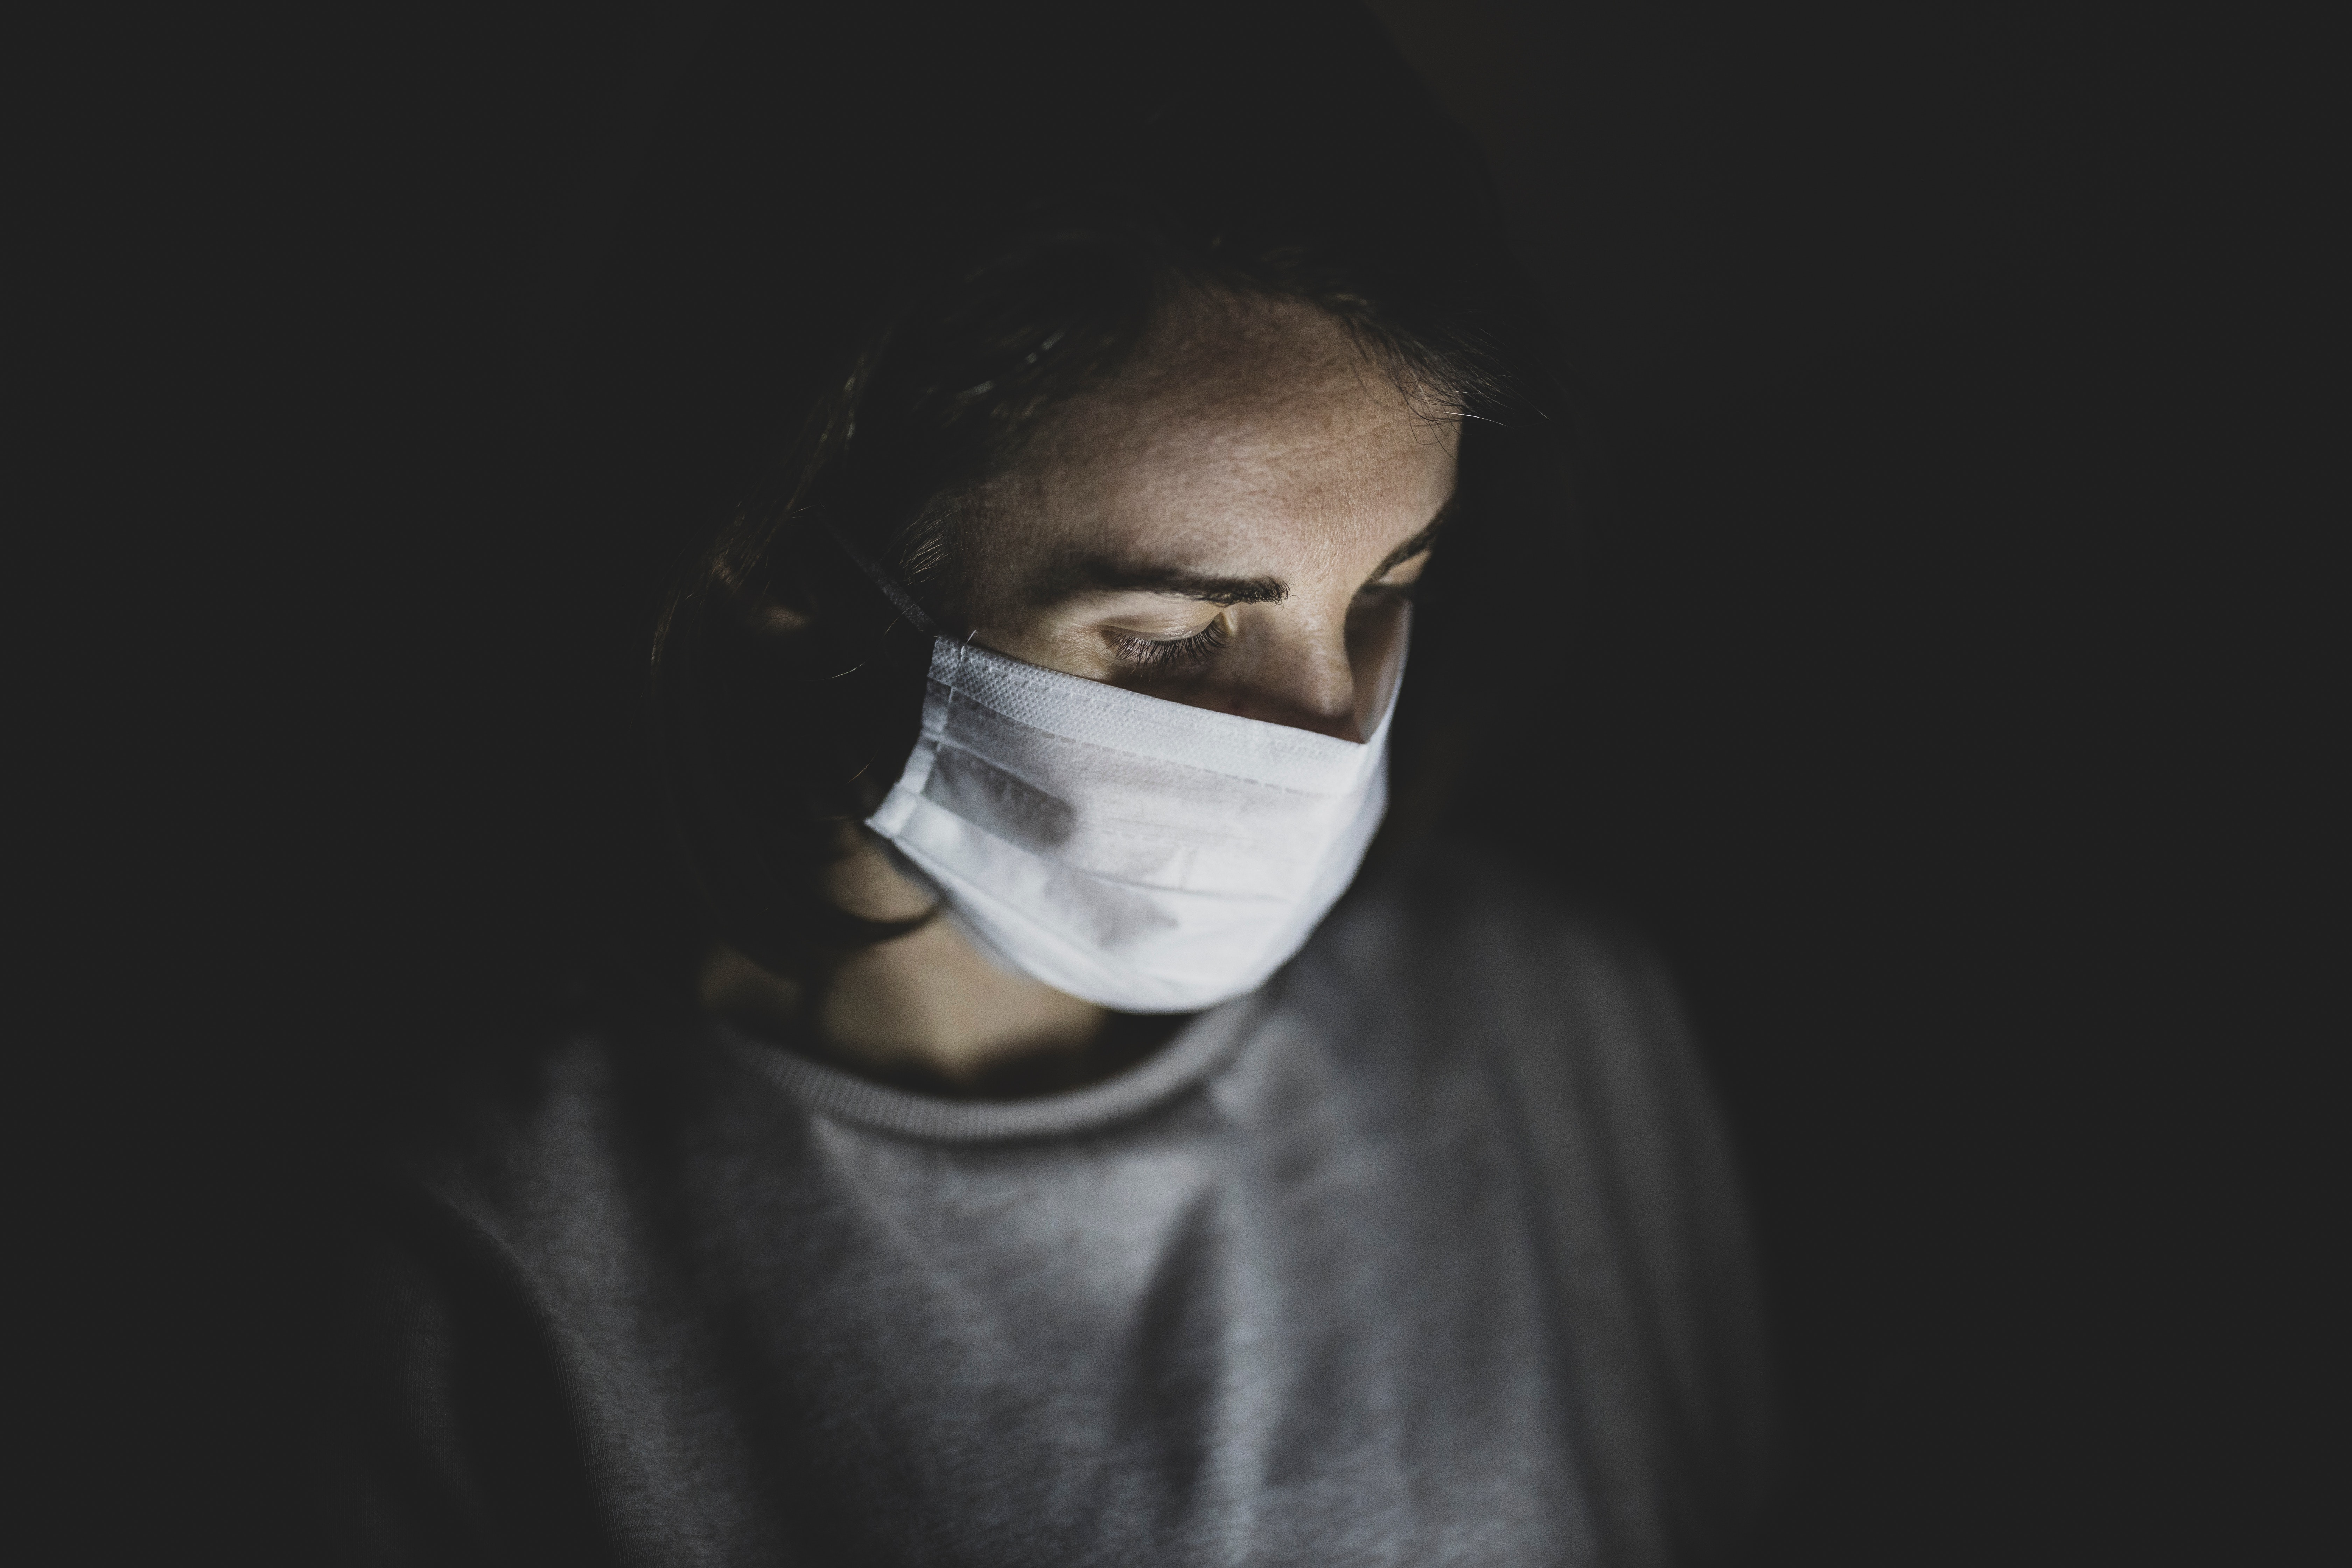with_mask: (778, 231, 1501, 1062)
